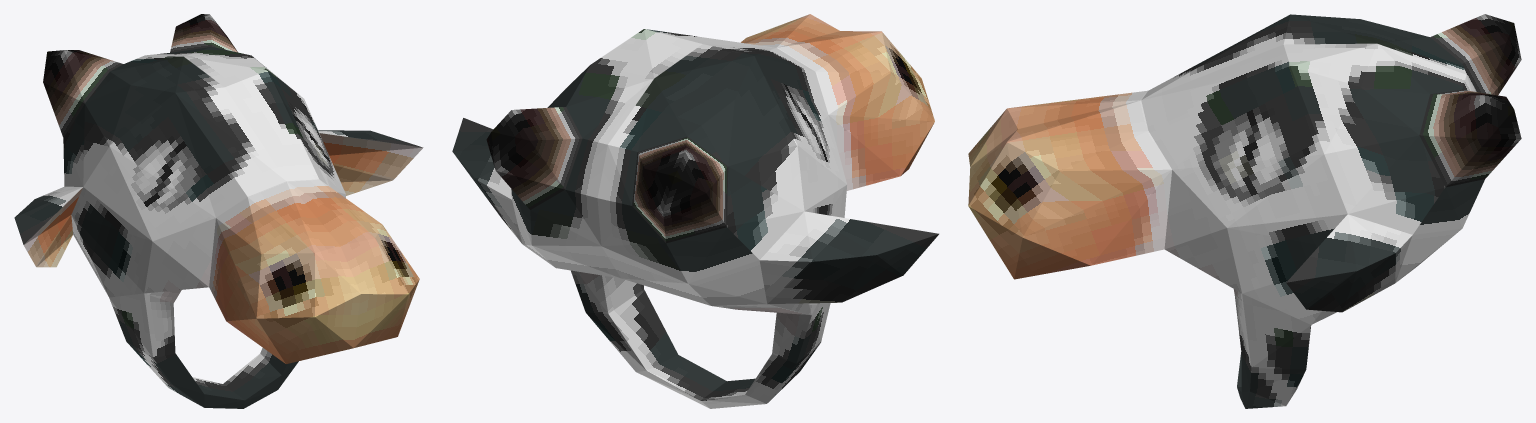
File: romani.glb
3 views of the same model, side by side, from view 1: azimuth 30°, elevation 25°; view 2: azimuth 150°, elevation 25°; view 3: azimuth 270°, elevation 25° (orthographic). The views are drawn at different scales.
Visible parts, largest first — view 1: romanimask.obj; view 2: romanimask.obj; view 3: romanimask.obj.
Boxes of the visible parts, x1,y1,x2,y2 form: romanimask.obj: (14,14,423,408); romanimask.obj: (452,14,938,408); romanimask.obj: (968,14,1521,408).
Bounding box in the file's own units: 31.81 × 23.92 × 33.17.
Materials: 1 (1 with a texture image).
